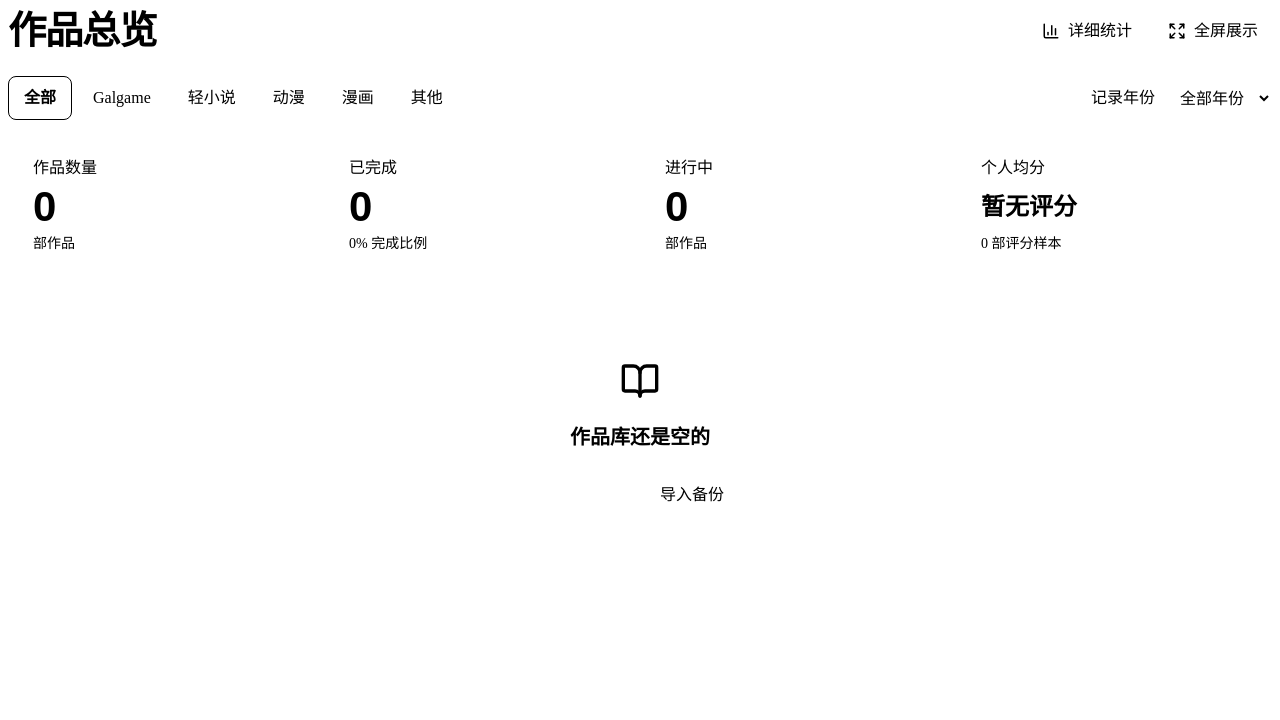
it: dashboard normal entry points › reflects full-screen entry and exit in the control state
Step 1. Click the button "全屏展示" → click(1213, 31), box [1154,9,1272,53]
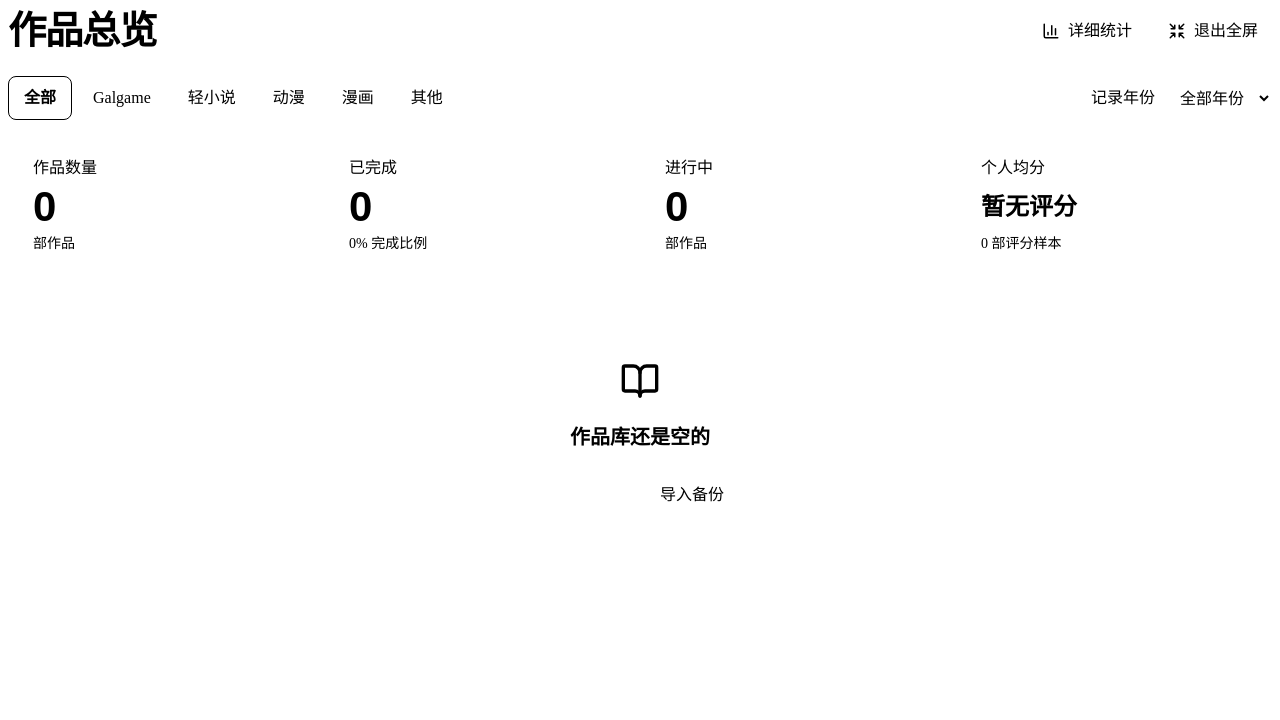
Result: the button "退出全屏" is shown
Step 2. Click the button "退出全屏" → click(1213, 31), box [1154,9,1272,53]
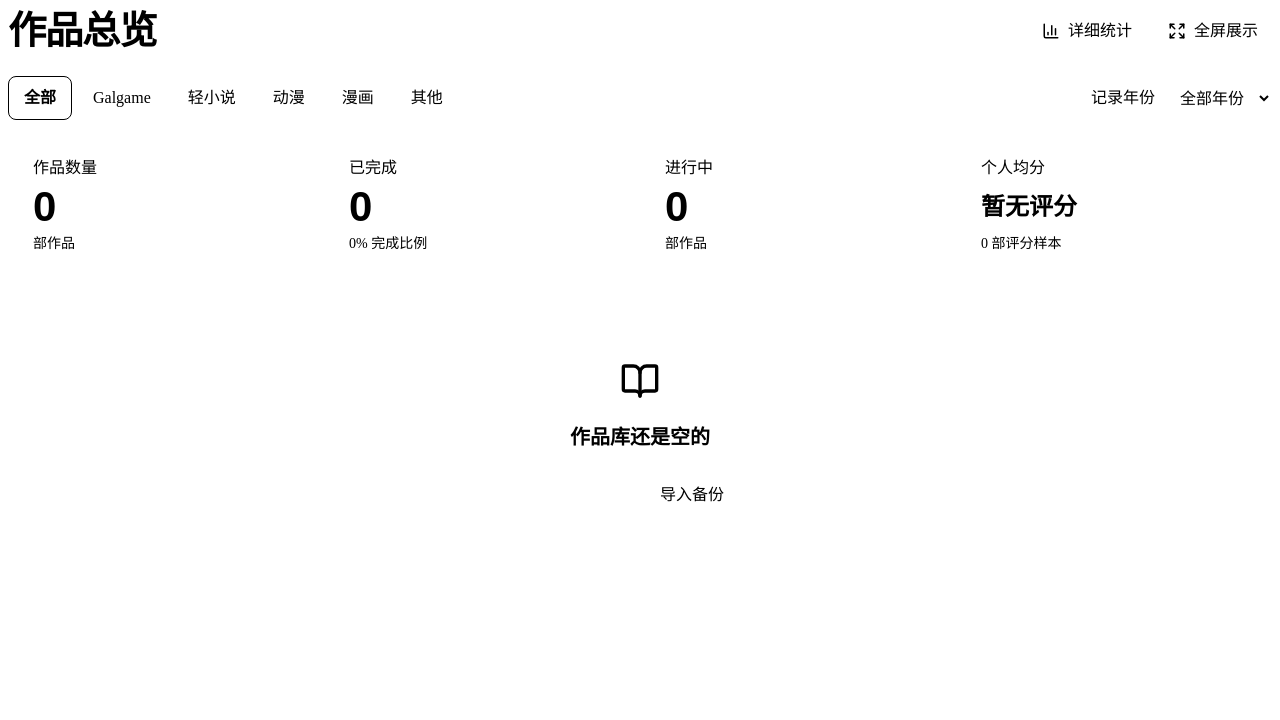
Result: the button "全屏展示" is shown at [1154,9,1272,53]
